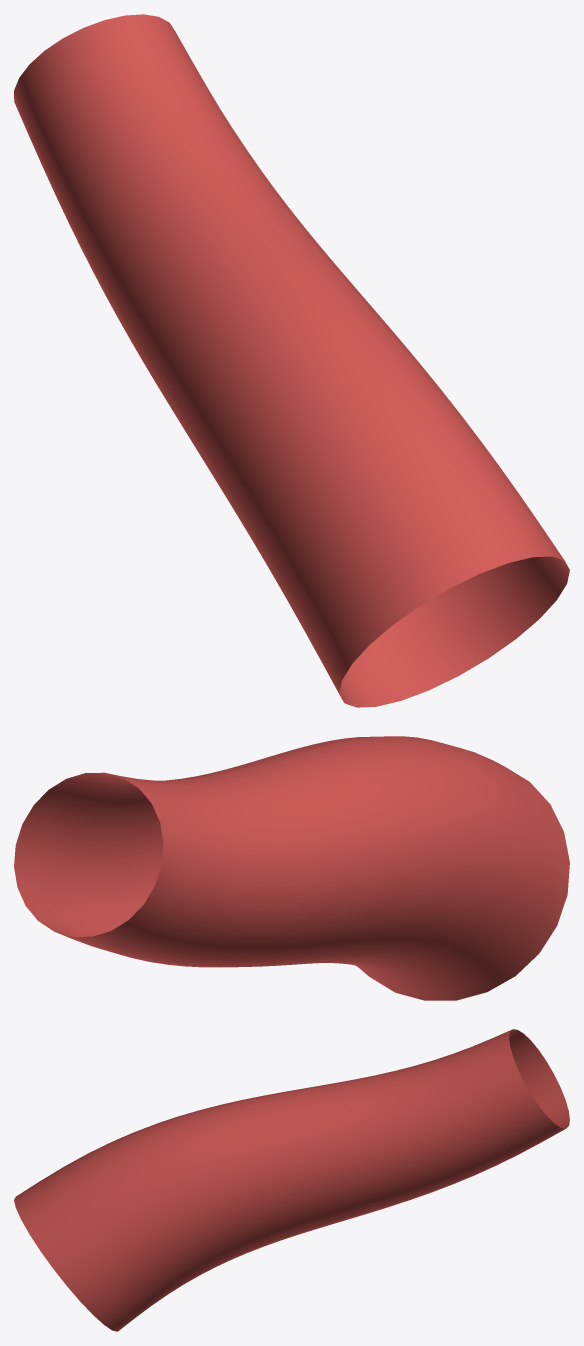
3 views of the same model, one above another, from view 1: azimuth 30°, elevation 25°; view 2: azimuth 150°, elevation 25°; view 3: azimuth 270°, elevation 25° (orthographic). The views are drawn at different scales.
Parts seen in each view (by area): view 1: 右侧髂内动脉前干; view 2: 右侧髂内动脉前干; view 3: 右侧髂内动脉前干.
Boxes of the visible parts, x1,y1,x2,y2 form: 右侧髂内动脉前干: (14, 14, 569, 707); 右侧髂内动脉前干: (14, 736, 569, 1000); 右侧髂内动脉前干: (14, 1029, 569, 1331).
Bounding box in the file's own units: 0.00853 × 0.016 × 0.0277.
